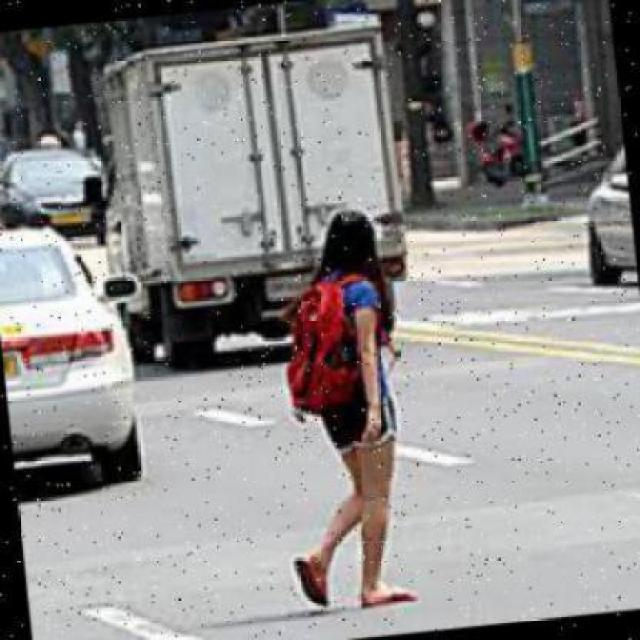sem_oculos: (351, 226, 381, 254)
